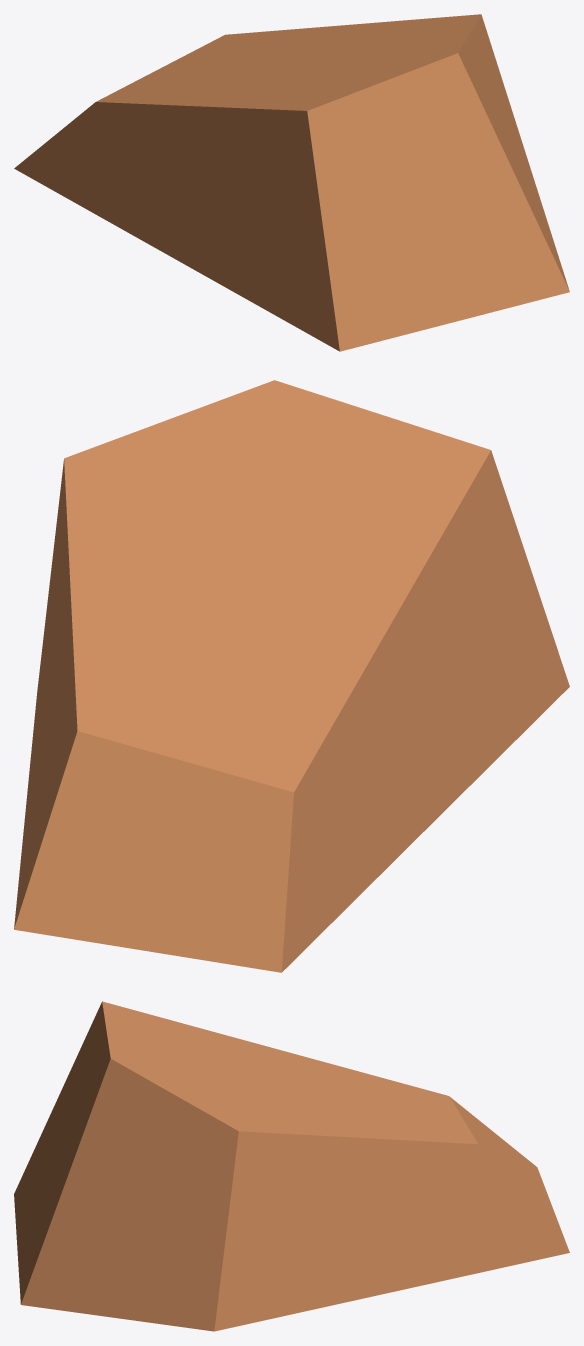
Rendered from rocksmall5.fbx.
3 renders of one model, top to bottom at view 1: azimuth 30°, elevation 25°; view 2: azimuth 150°, elevation 25°; view 3: azimuth 270°, elevation 25°, orthographic. The views are drawn at different scales.
Parts seen in each view (by area): view 1: rocksmall5; view 2: rocksmall5; view 3: rocksmall5.
Part boxes in pixels (bbox=[...]): rocksmall5: bbox=[14, 14, 569, 351]; rocksmall5: bbox=[14, 380, 569, 972]; rocksmall5: bbox=[14, 1001, 569, 1331].
Size of the model in its own units: 54.49 by 33.27 by 77.91.
